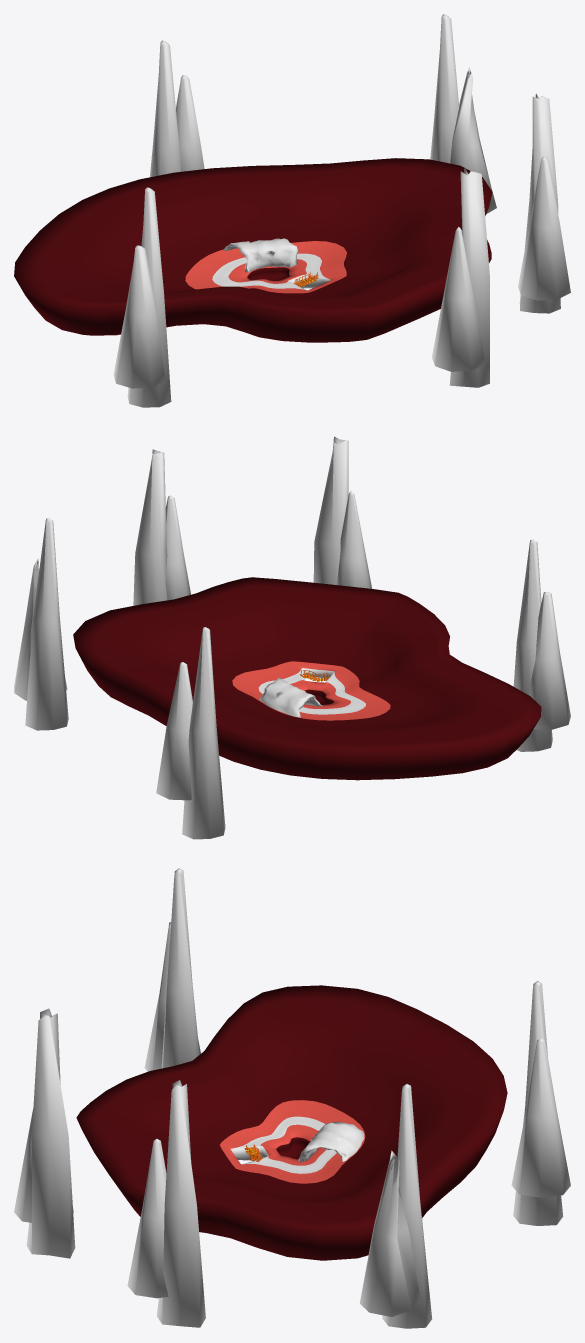
Rendered from map.fbx.
3 views of the same model, one above another, from view 1: azimuth 30°, elevation 25°; view 2: azimuth 150°, elevation 25°; view 3: azimuth 270°, elevation 25° (orthographic). The views are drawn at different scales.
Parts seen in each view (by area): view 1: map.001, mountains.001, cave.001; view 2: map.001, mountains.001, cave.001; view 3: map.001, mountains.001, cave.001.
Boxes of the visible parts, <box> form: map.001: <box>14,158,492,342</box>; mountains.001: <box>113,14,570,407</box>; cave.001: <box>223,238,298,272</box>; map.001: <box>73,577,541,780</box>; mountains.001: <box>14,436,570,839</box>; cave.001: <box>259,677,322,717</box>; map.001: <box>76,985,507,1260</box>; mountains.001: <box>14,868,570,1328</box>; cave.001: <box>298,1121,364,1162</box>.
Size of the model in its own units: 214828 by 93448 by 186763.
